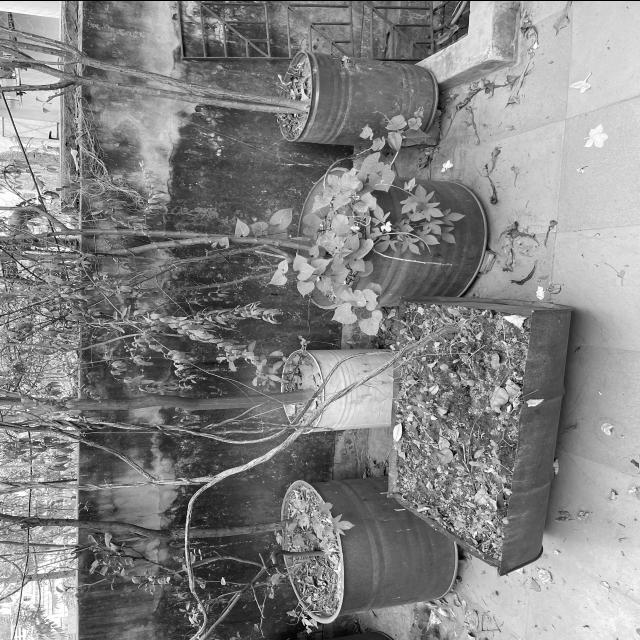Breeding Place: (382, 299, 577, 587), (280, 466, 462, 620), (302, 178, 488, 312), (272, 49, 438, 142), (282, 339, 400, 433)
